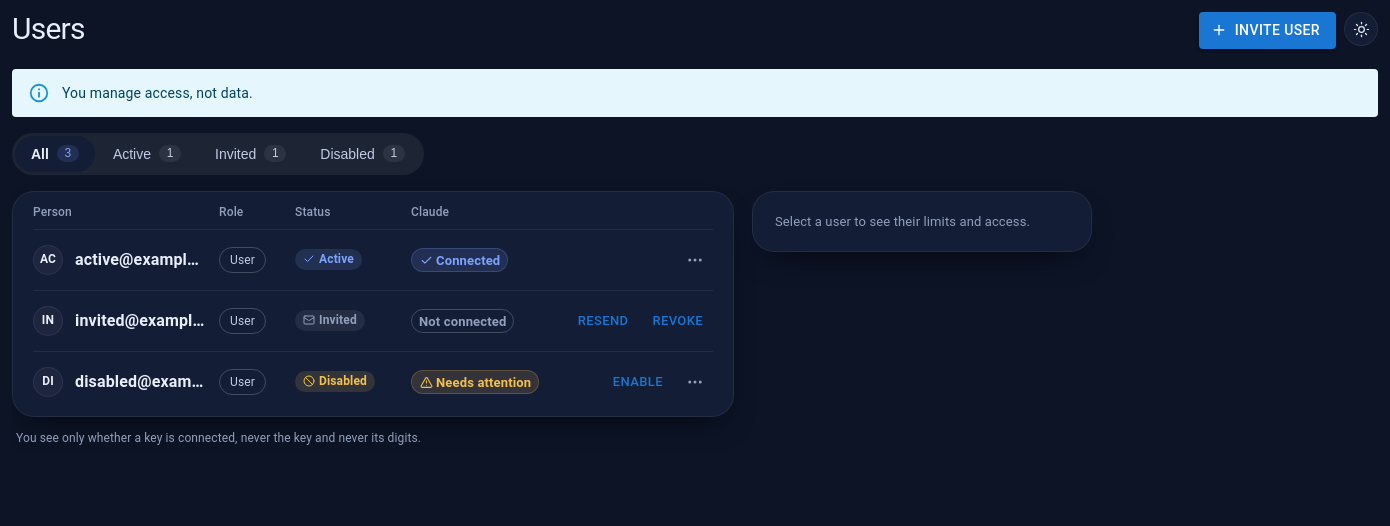
it: AdminPage › shows the backend's error detail inline when a resend fails
Expected: the text "invited@example.com" is shown, [75,309,207,333]
Click the button "Resend".
click(603, 321)  # box [568,303,638,339]
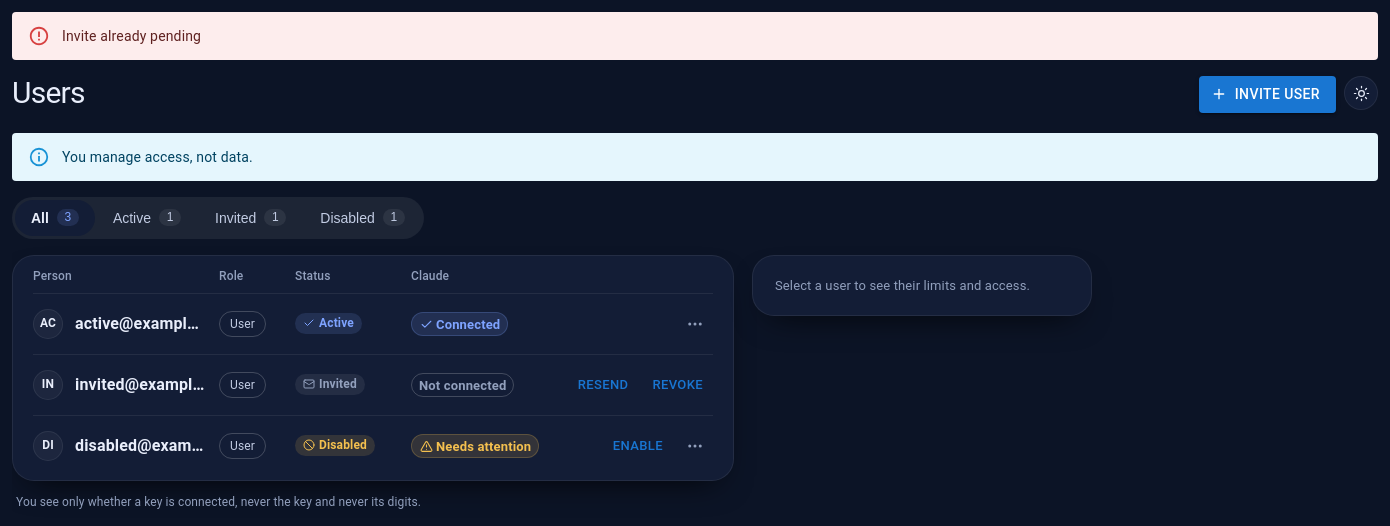
Now the text "Invite already pending" is shown, box [62,28,201,44]
